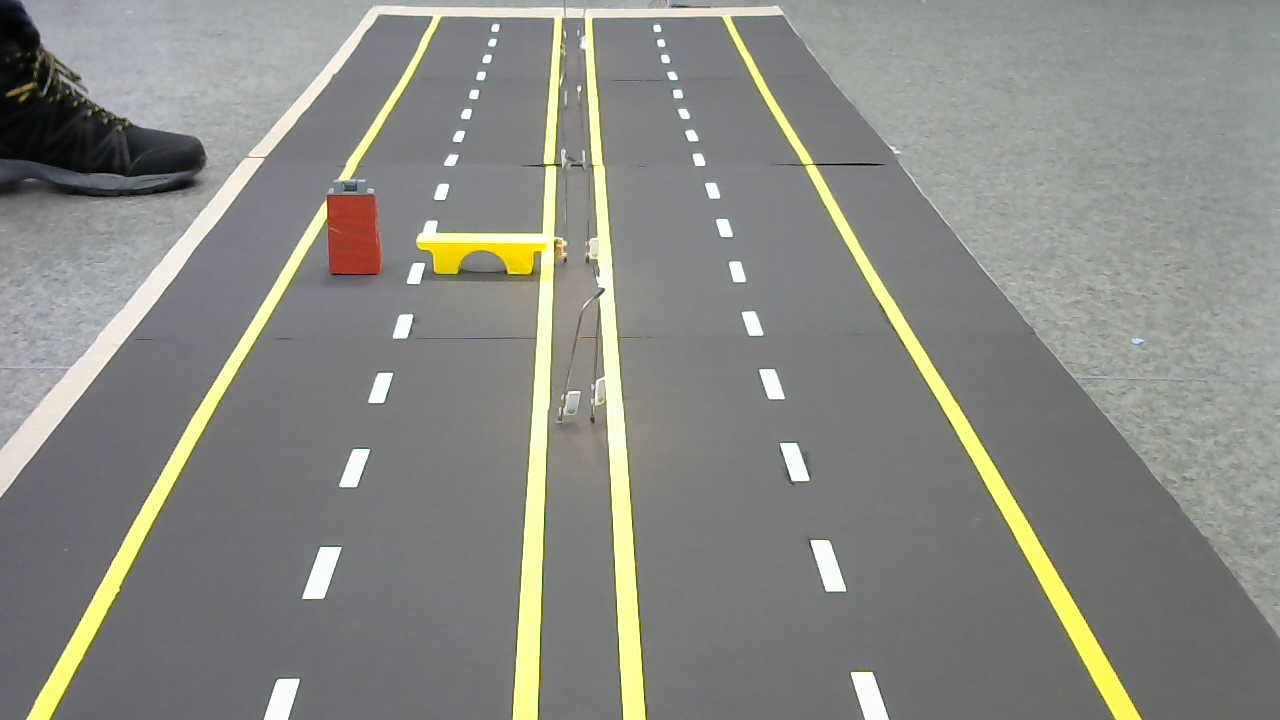accident: (325, 178, 382, 275)
emergency_situation: (411, 230, 552, 279)
